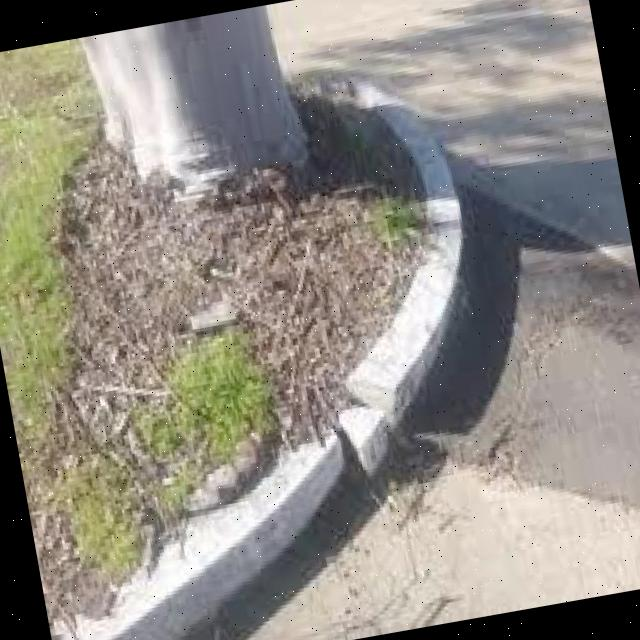curb: (180, 386, 394, 601), (360, 73, 493, 316), (355, 296, 473, 464), (38, 536, 203, 640)
